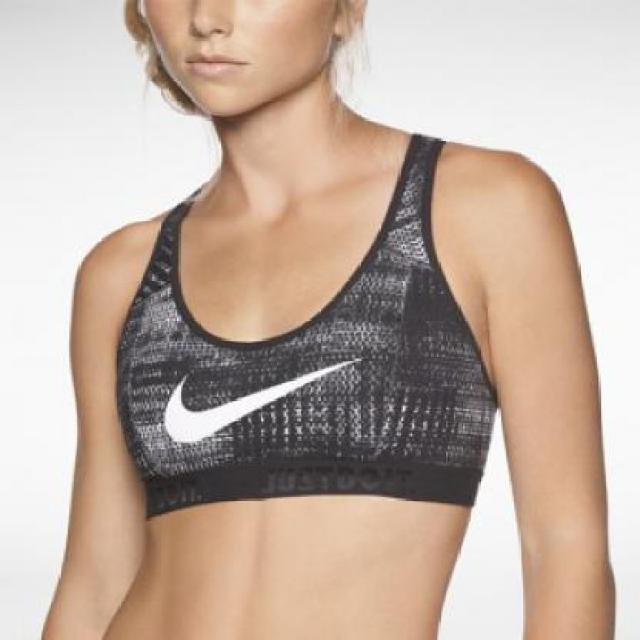Nike: (161, 353, 362, 441)
